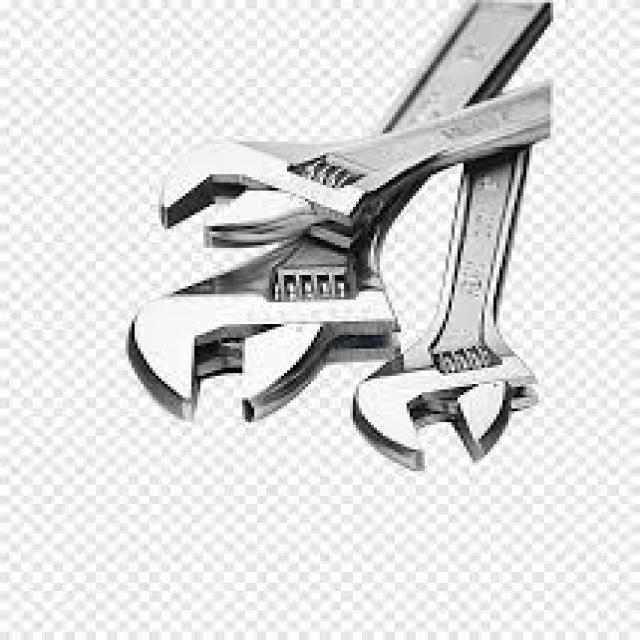wrench: (91, 41, 608, 473)
